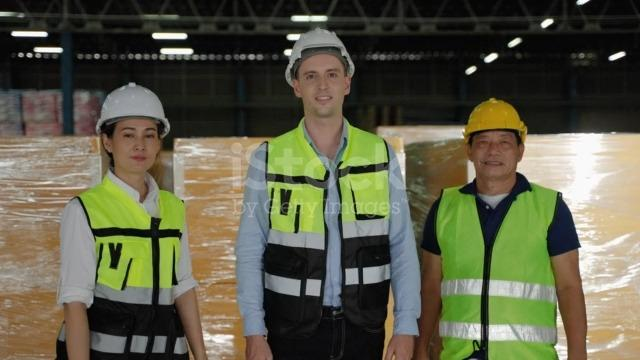helmet: (284, 27, 355, 85), (96, 84, 171, 138), (463, 98, 526, 145)
